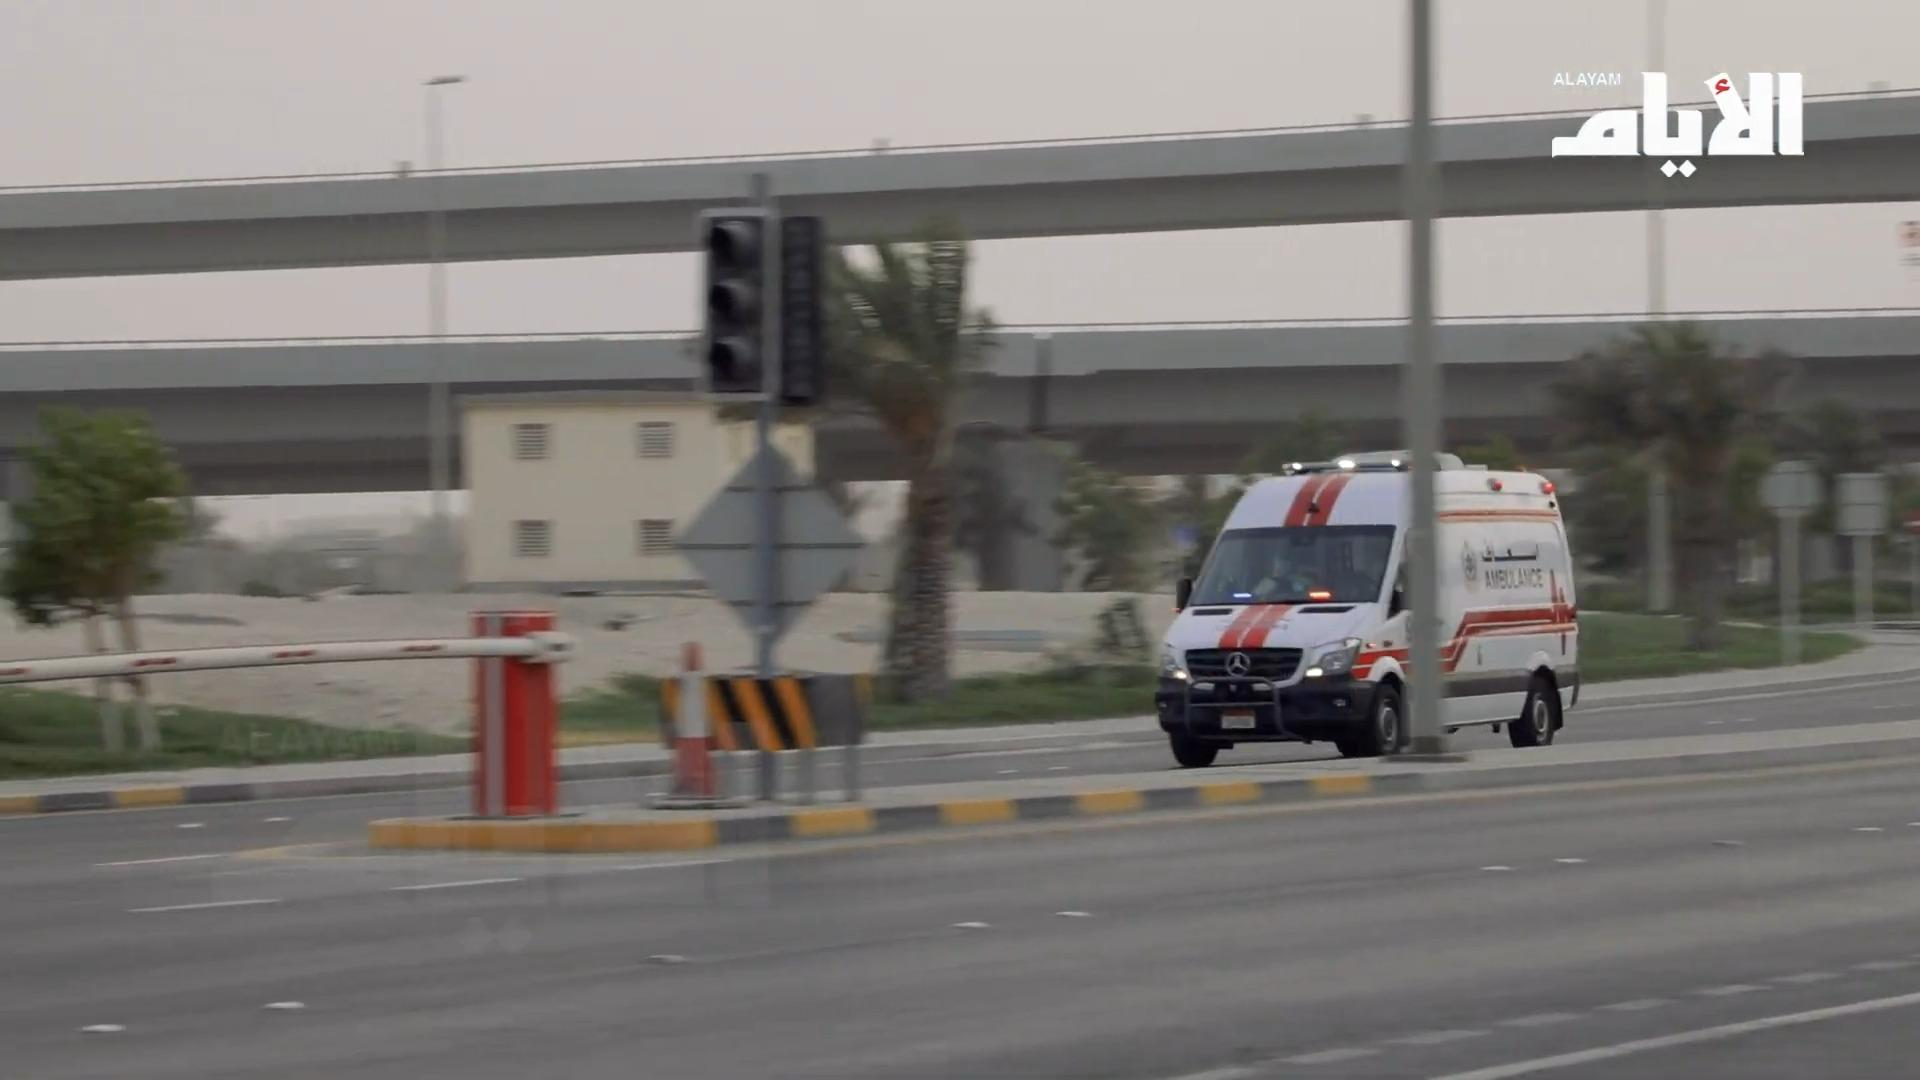ambulance_on: (1154, 451, 1581, 769)
